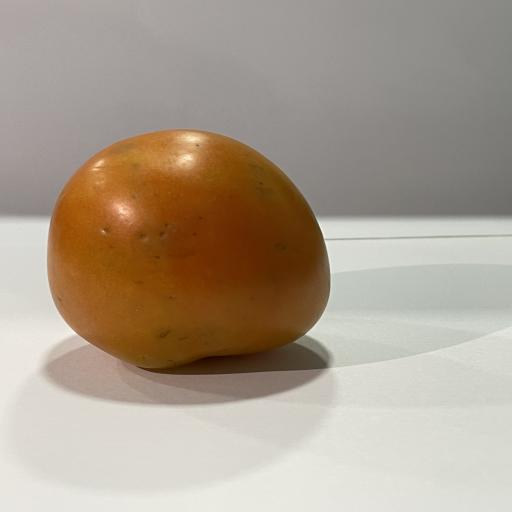unripe: (47, 130, 329, 369)
